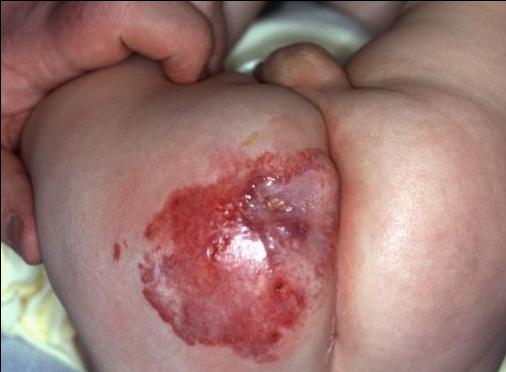NonPU: (132, 138, 346, 367)
